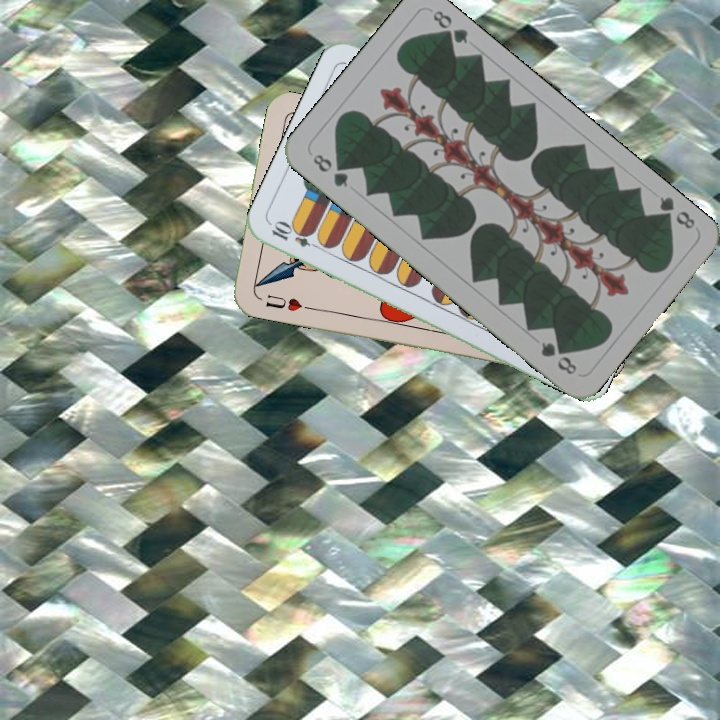E10: (267, 219, 325, 253)
G8: (652, 192, 698, 232), (308, 149, 351, 190)
HU: (261, 290, 313, 314)
